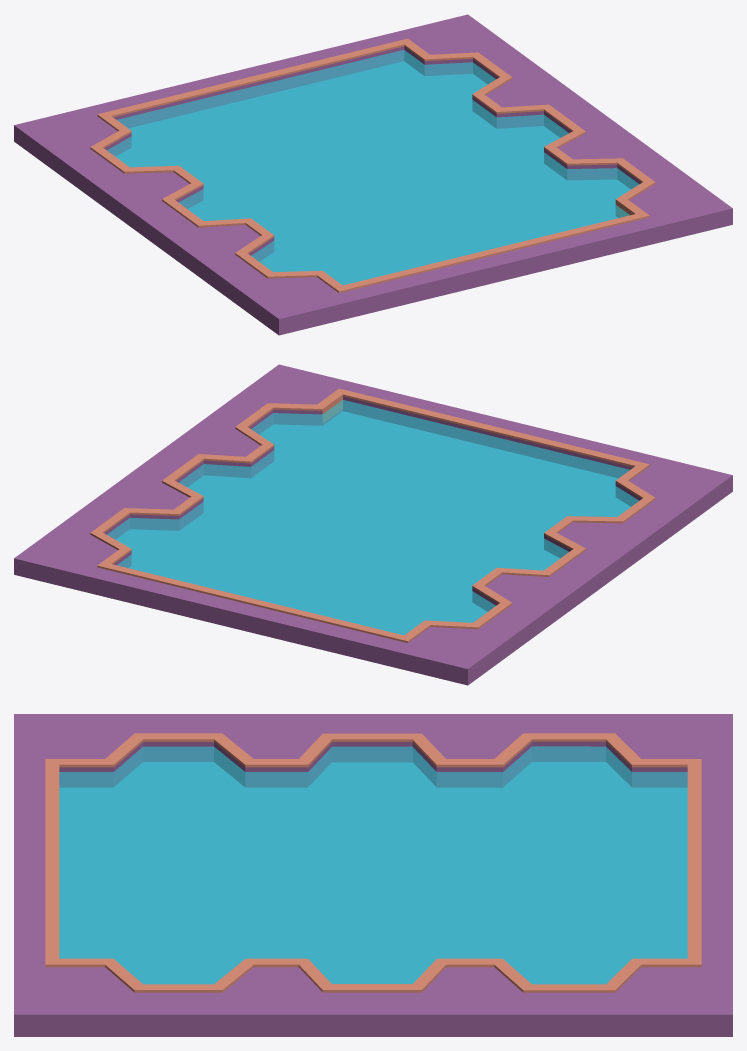
Rendered from floor_tier19.fbx.
3 renders of one model, top to bottom at view 1: azimuth 30°, elevation 25°; view 2: azimuth 150°, elevation 25°; view 3: azimuth 270°, elevation 25°, orthographic. The views are drawn at different scales.
Parts seen in each view (by area): view 1: Cube.002, Cube; view 2: Cube.002, Cube; view 3: Cube.002, Cube.
Boxes of the visible parts, x1,y1,x2,y2 form: Cube.002: [14, 14, 732, 335]; Cube: [107, 50, 638, 285]; Cube.002: [14, 364, 732, 685]; Cube: [107, 400, 638, 635]; Cube.002: [14, 714, 732, 1036]; Cube: [59, 746, 687, 984].
Size of the model in its own units: 654 by 25.15 by 662.
